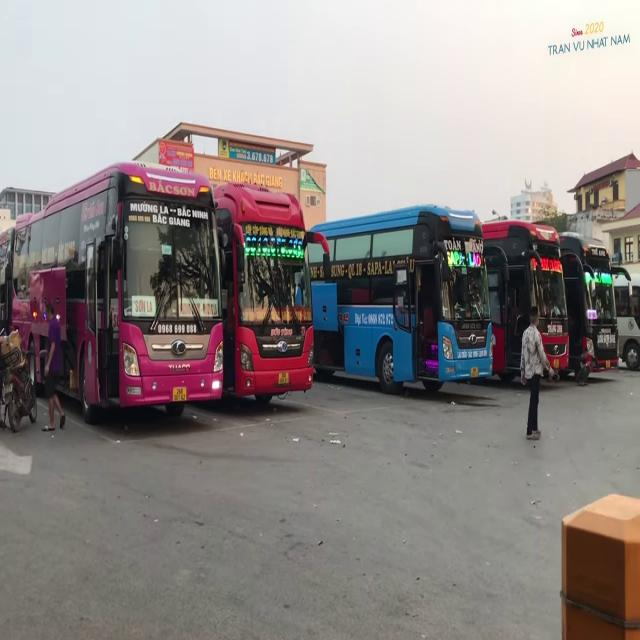bien_vang: (173, 387, 186, 401), (278, 373, 289, 385)
